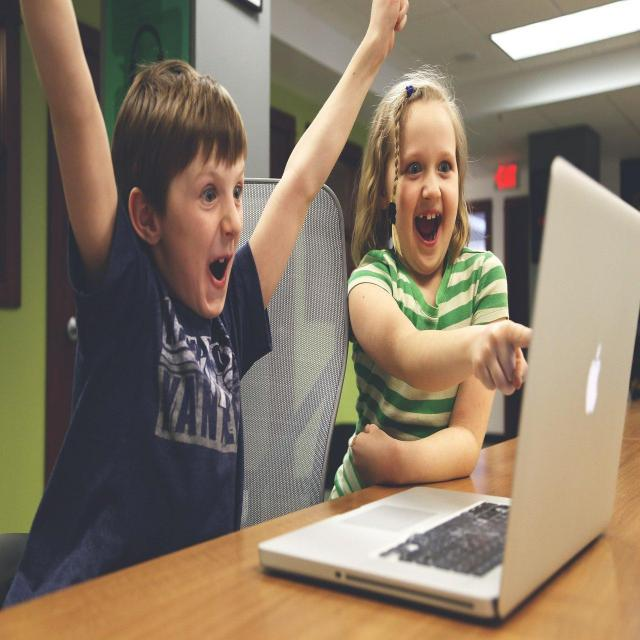person: (7, 11, 422, 517), (342, 69, 558, 507)
